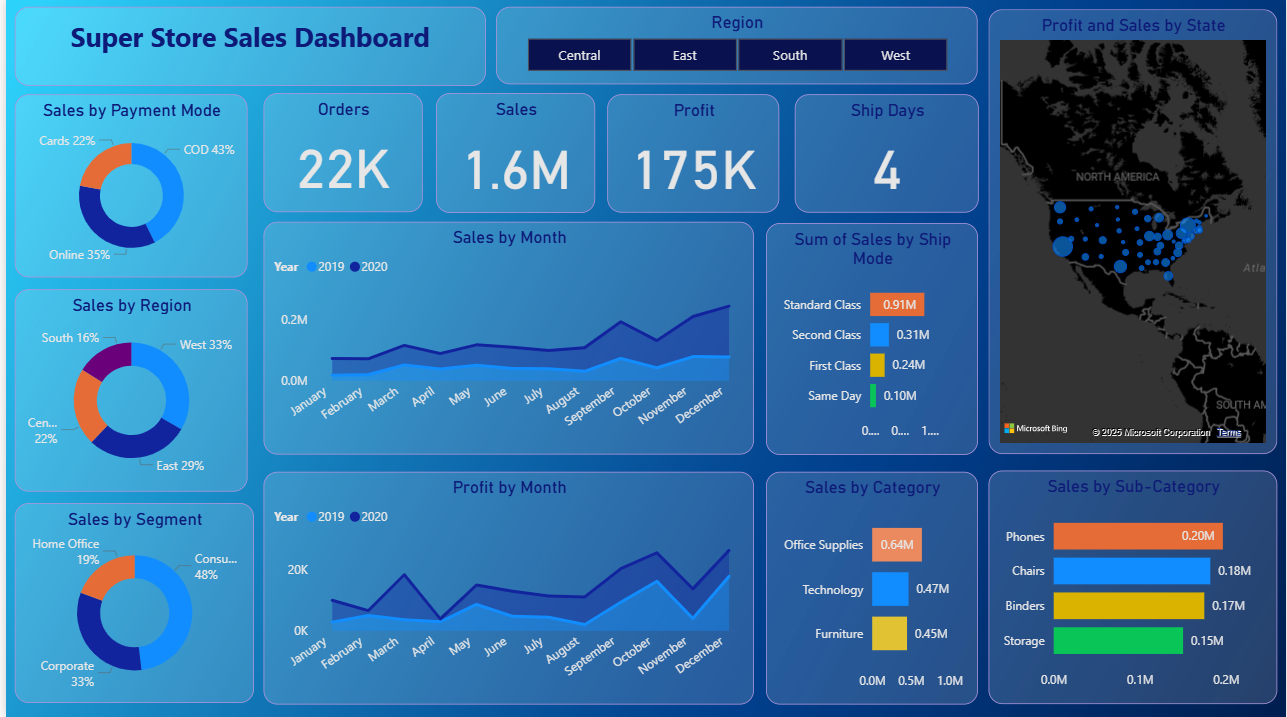

This screenshot's page, from the dashboard's own definition file:
{"tool":"powerbi","page":{"name":"Dashboard","canvas":[1280,720],"ordinal":0},"visuals":[{"type":"barChart","title":"Sales by Category","fields":{"Category":["SuperStore_Sales_Dataset.Category"],"Y":["Sum(SuperStore_Sales_Dataset.Sales)"]},"box":[760.5,473.7,211.8,232.9],"z":0},{"type":"stackedAreaChart","title":"Sales by Month ","fields":{"Y":["Sum(SuperStore_Sales_Dataset.Sales)"],"Series":["SuperStore_Sales_Dataset.Order Date.Variation.Date Hierarchy.Year"],"Category":["SuperStore_Sales_Dataset.Order Date.Variation.Date Hierarchy.Month","SuperStore_Sales_Dataset.Order Date.Variation.Date Hierarchy.Day"]},"box":[257.9,223.7,490.8,232.9],"z":1000},{"type":"stackedAreaChart","title":"Profit by Month ","fields":{"Series":["SuperStore_Sales_Dataset.Order Date.Variation.Date Hierarchy.Year"],"Category":["SuperStore_Sales_Dataset.Order Date.Variation.Date Hierarchy.Month","SuperStore_Sales_Dataset.Order Date.Variation.Date Hierarchy.Day"],"Y":["Sum(SuperStore_Sales_Dataset.Profit)"]},"box":[257.9,473.7,490.8,232.9],"z":2000},{"type":"donutChart","title":"Sales by Segment","fields":{"Category":["SuperStore_Sales_Dataset.Segment"],"Y":["Sum(SuperStore_Sales_Dataset.Sales)"]},"box":[9.2,505.3,239.5,200],"z":3000},{"type":"donutChart","title":"Sales by Payment Mode","fields":{"Y":["Sum(SuperStore_Sales_Dataset.Sales)"],"Category":["SuperStore_Sales_Dataset.Payment Mode"]},"box":[9.2,96.1,232.9,182.9],"z":4000},{"type":"slicer","title":"Region","fields":{"Values":["SuperStore_Sales_Dataset.Region"]},"box":[490,8.8,481.2,77.5],"z":5000},{"type":"textbox","box":[9.2,9.2,471.1,78.9],"z":6000},{"type":"card","title":"Sales","fields":{"Values":["Sum(SuperStore_Sales_Dataset.Sales)"]},"box":[430.3,94.7,159.2,119.7],"z":7000},{"type":"card","title":"Orders","fields":{"Values":["Sum(SuperStore_Sales_Dataset.Quantity)"]},"box":[257.8,94.4,158.9,118.9],"z":8000},{"type":"card","title":"Profit","fields":{"Values":["Sum(SuperStore_Sales_Dataset.Profit)"]},"box":[601.3,96.1,172.4,118.4],"z":9000},{"type":"card","title":"Ship Days","fields":{"Values":["Avg(SuperStore_Sales_Dataset.AvgDelivery)"]},"box":[788.2,96.1,184.2,118.4],"z":10000},{"type":"donutChart","title":" Sales by Region","fields":{"Y":["Sum(SuperStore_Sales_Dataset.Sales)"],"Category":["SuperStore_Sales_Dataset.Region"]},"box":[9.2,290.8,232.9,202.6],"z":11000},{"type":"map","title":"Profit and Sales  by State","fields":{"Category":["SuperStore_Sales_Dataset.State"],"Size":["Sum(SuperStore_Sales_Dataset.Sales)"]},"box":[982.5,8.8,288.8,447.5],"z":12000},{"type":"barChart","fields":{"Category":["SuperStore_Sales_Dataset.Ship Mode"],"Y":["Sum(SuperStore_Sales_Dataset.Sales)"]},"box":[760,224.4,212.2,232.2],"z":13000},{"type":"barChart","title":"Sales by Sub-Category","fields":{"Category":["SuperStore_Sales_Dataset.Sub-Category"],"Y":["Sum(SuperStore_Sales_Dataset.Sales)"]},"box":[982.2,472.2,288.9,233.3],"z":14000}]}

Visuals, with their boxes in screenshot pixels (x1, y1, x2, y2), scaled from the page's 1280x720 canvas onto the 1287x717 screenshot:
"Sales by Category" barChart: l=765, t=472, r=978, b=704
"Sales by Month " stackedAreaChart: l=259, t=223, r=753, b=455
"Profit by Month " stackedAreaChart: l=259, t=472, r=753, b=704
"Sales by Segment" donutChart: l=9, t=503, r=250, b=702
"Sales by Payment Mode" donutChart: l=9, t=96, r=243, b=278
"Region" slicer: l=493, t=9, r=977, b=86
textbox: l=9, t=9, r=483, b=88
"Sales" card: l=433, t=94, r=593, b=214
"Orders" card: l=259, t=94, r=419, b=212
"Profit" card: l=605, t=96, r=778, b=214
"Ship Days" card: l=793, t=96, r=978, b=214
" Sales by Region" donutChart: l=9, t=290, r=243, b=491
"Profit and Sales  by State" map: l=988, t=9, r=1278, b=454
barChart - SuperStore_Sales_Dataset.Ship Mode x Sum(SuperStore_Sales_Dataset.Sales): l=764, t=223, r=978, b=455
"Sales by Sub-Category" barChart: l=988, t=470, r=1278, b=703
